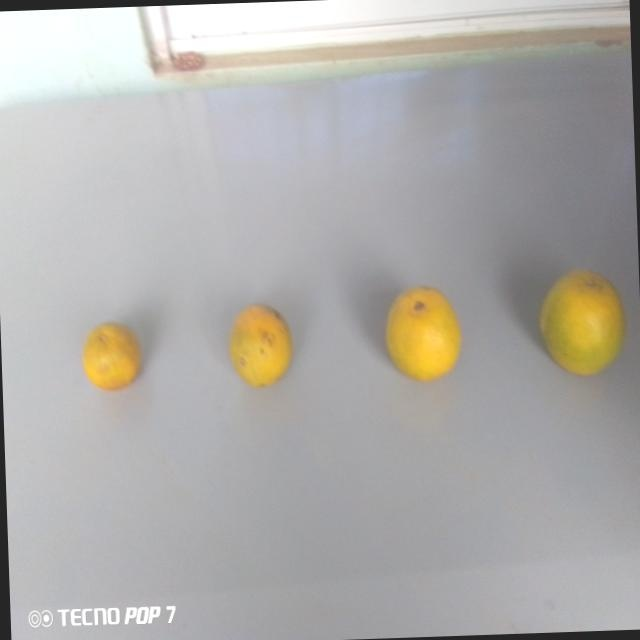agrume: (534, 260, 630, 384), (380, 281, 470, 390), (225, 295, 300, 397), (74, 312, 146, 401)
